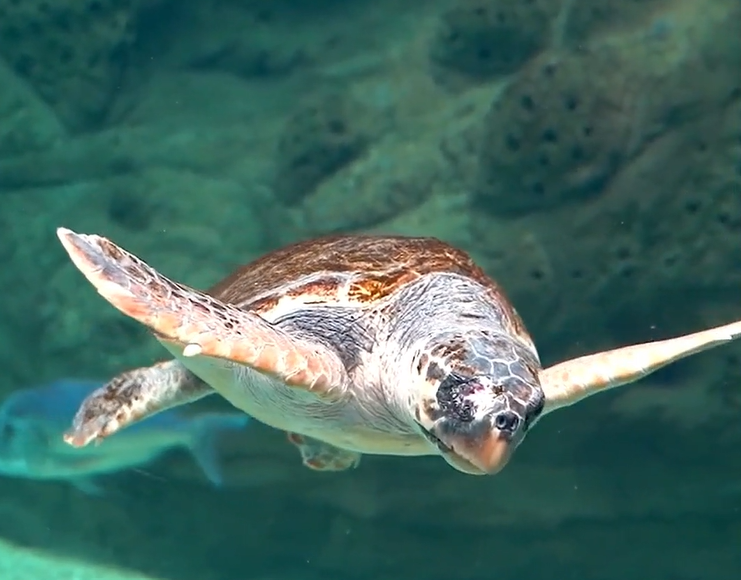seaturtle: (45, 232, 740, 477), (60, 232, 547, 479)
